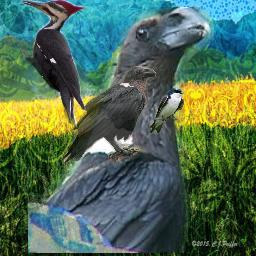Crow: (28, 7, 214, 253), (60, 66, 156, 164)
Swallow: (148, 87, 184, 134)
Woodpecker: (20, 0, 87, 128)
